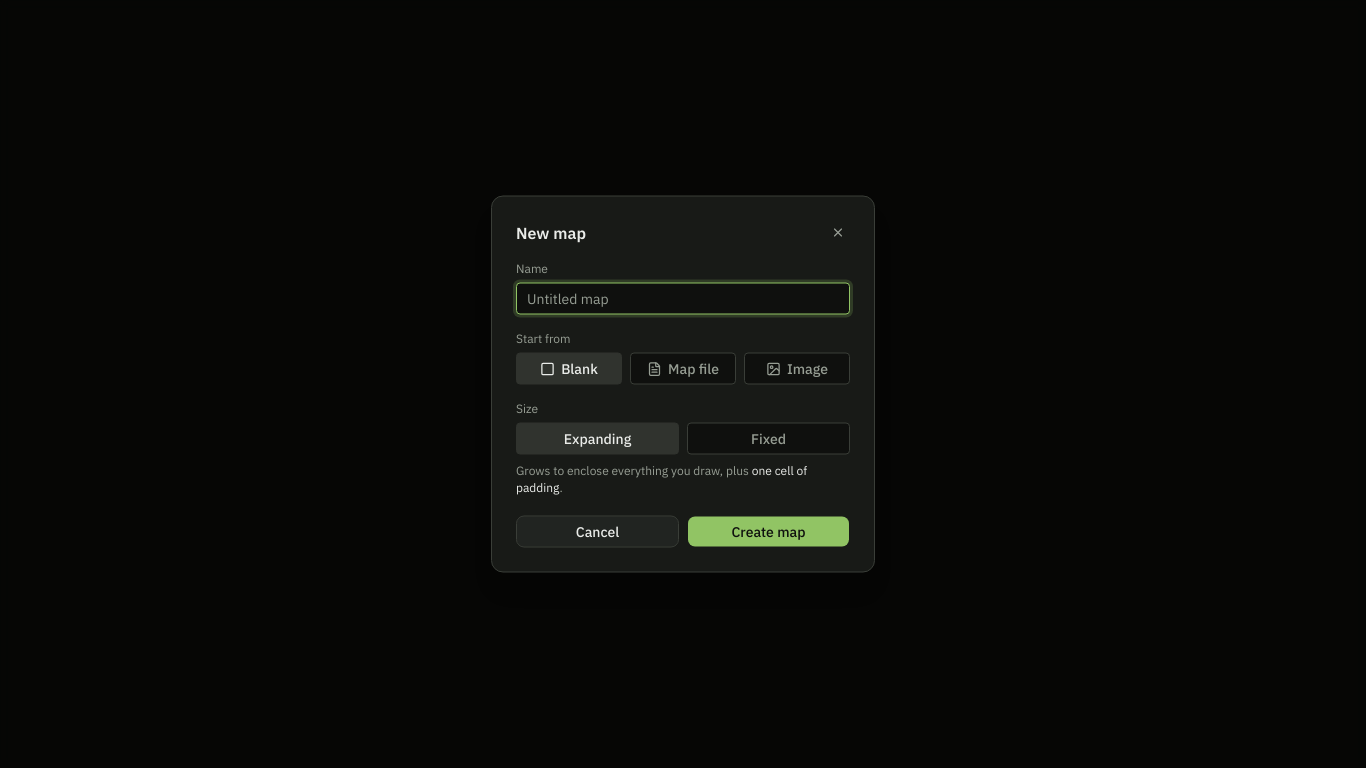
Test case: NewMapDialog › “Map file” collapses name and size, and stays unsubmittable until a file is picked
What coordinates should you click on to do the following:
click the button "Map file"
I would click on:
 (683, 368)
Its box is x1=630 y1=352 x2=736 y2=384.
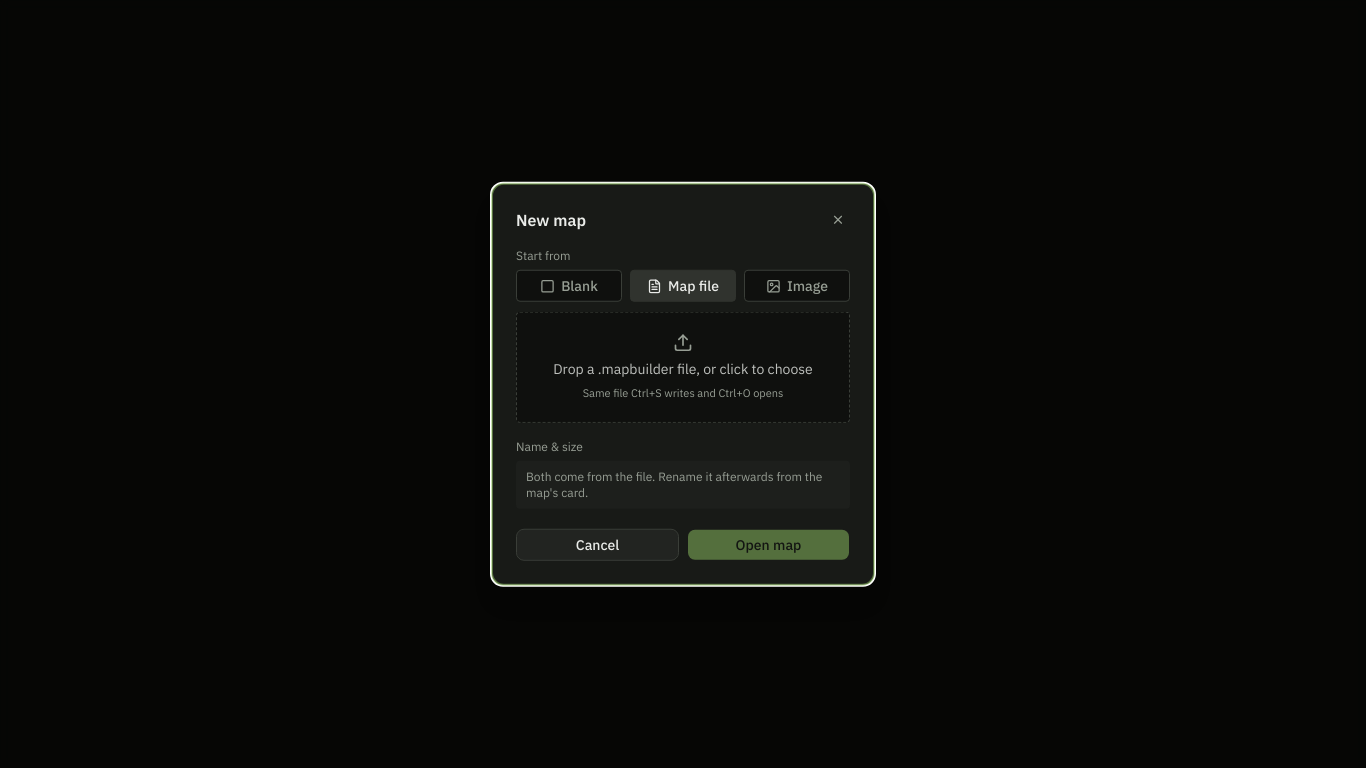
Now the button "Expanding" is gone
Now the text "Both come from the file" is shown, box x1=526 y1=468 x2=822 y2=499
Now the button with test id "new-map-submit" reads "Open map", box x1=687 y1=528 x2=850 y2=560
